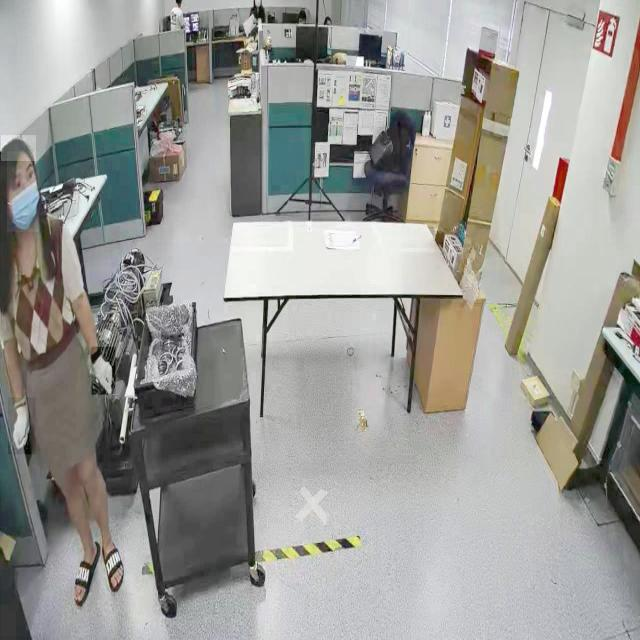face_mask: (7, 151, 39, 232)
hand_glove: (8, 397, 36, 455), (92, 346, 115, 394)
head_nohelmet: (0, 135, 36, 162)
person: (0, 127, 110, 638)
